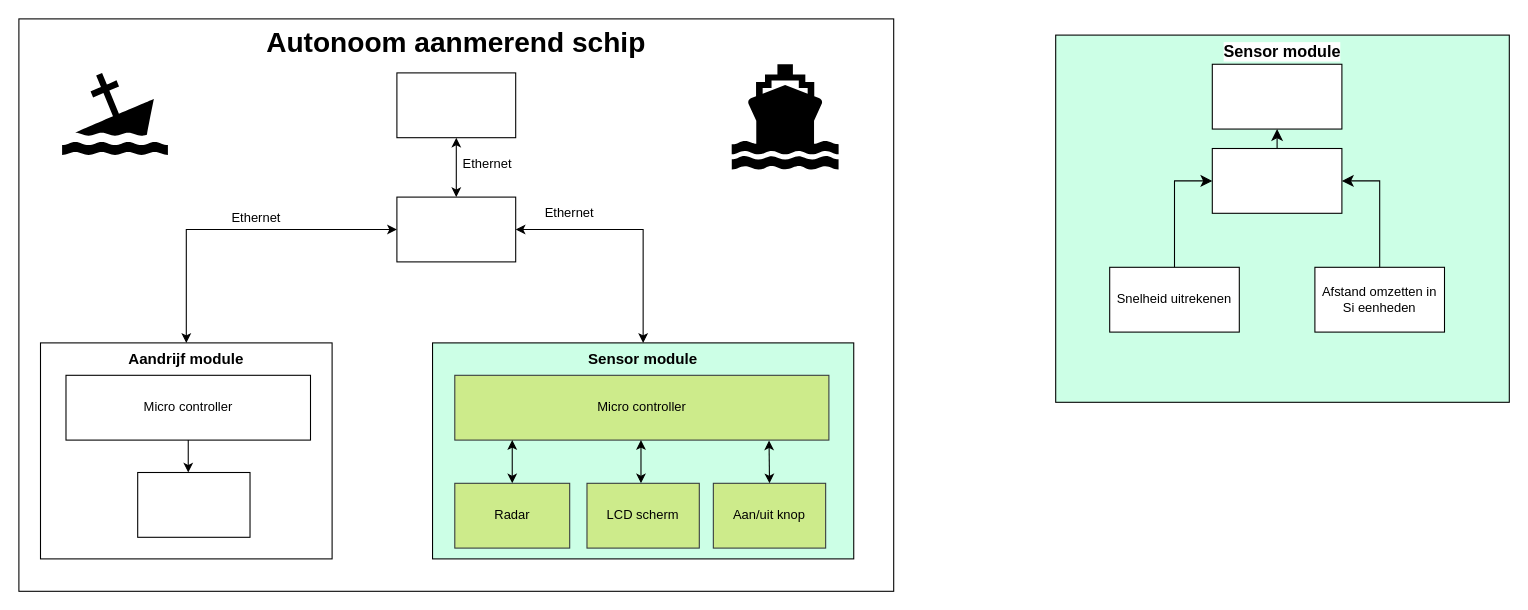
Image size: 1528x610. Some labels were removed from this diagram. Each missing label, with the centre of its shape:
Aandrijvings mechanismes: (193,504)
broker: (1276,96)
Centrale controle module: (456,105)
controller: (1276,180)
MQTT broker: (456,229)
